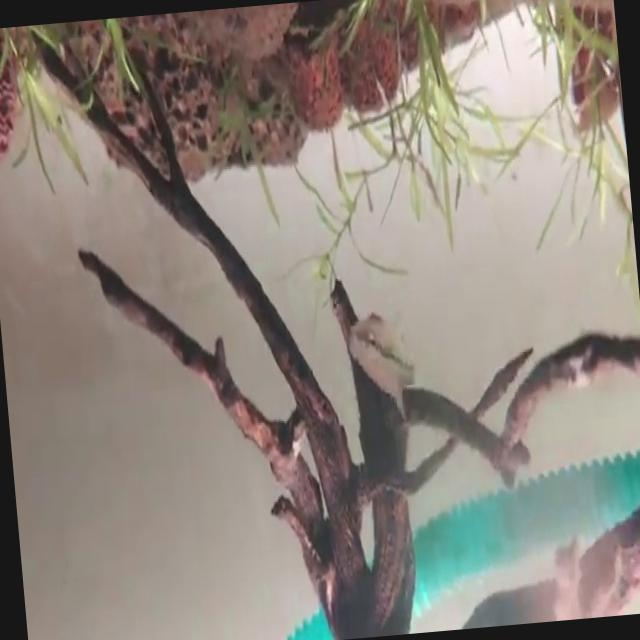Cakil Baligi: (346, 305, 418, 422)
